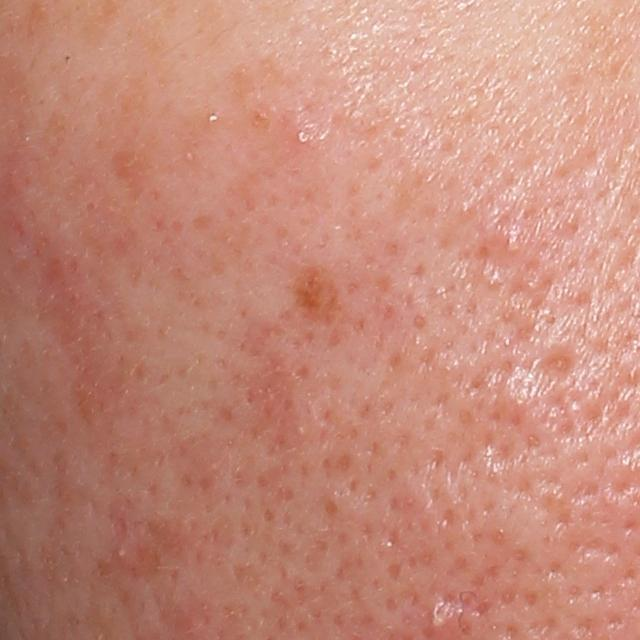atrophic_scar: (532, 345, 576, 379)
comedo: (502, 232, 522, 260), (112, 543, 129, 562)
pustule: (419, 601, 469, 638)
